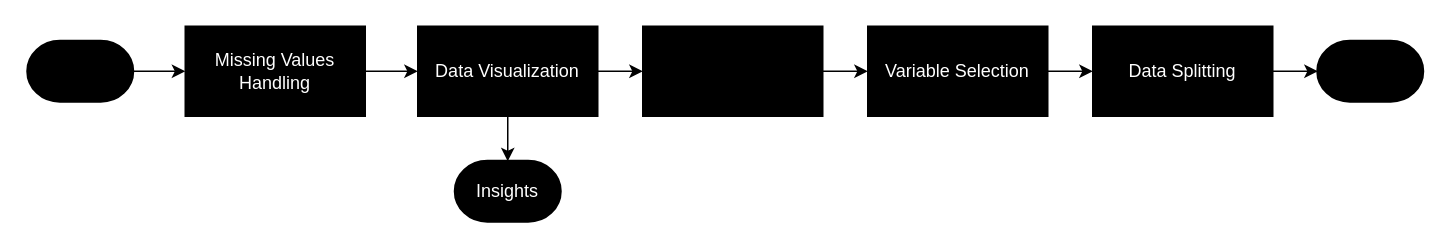
The diagram is 1449 pixels wide and 249 high, and some of its shapes have lost their labels. The shapes that lost their labels are listed below. From the top down, each one's centre as x and y in pixels, then its label:
point (80, 70): prepared _data.pkl
point (732, 70): Good - Bad Label Creation
point (1370, 70): Train Test Dataset
